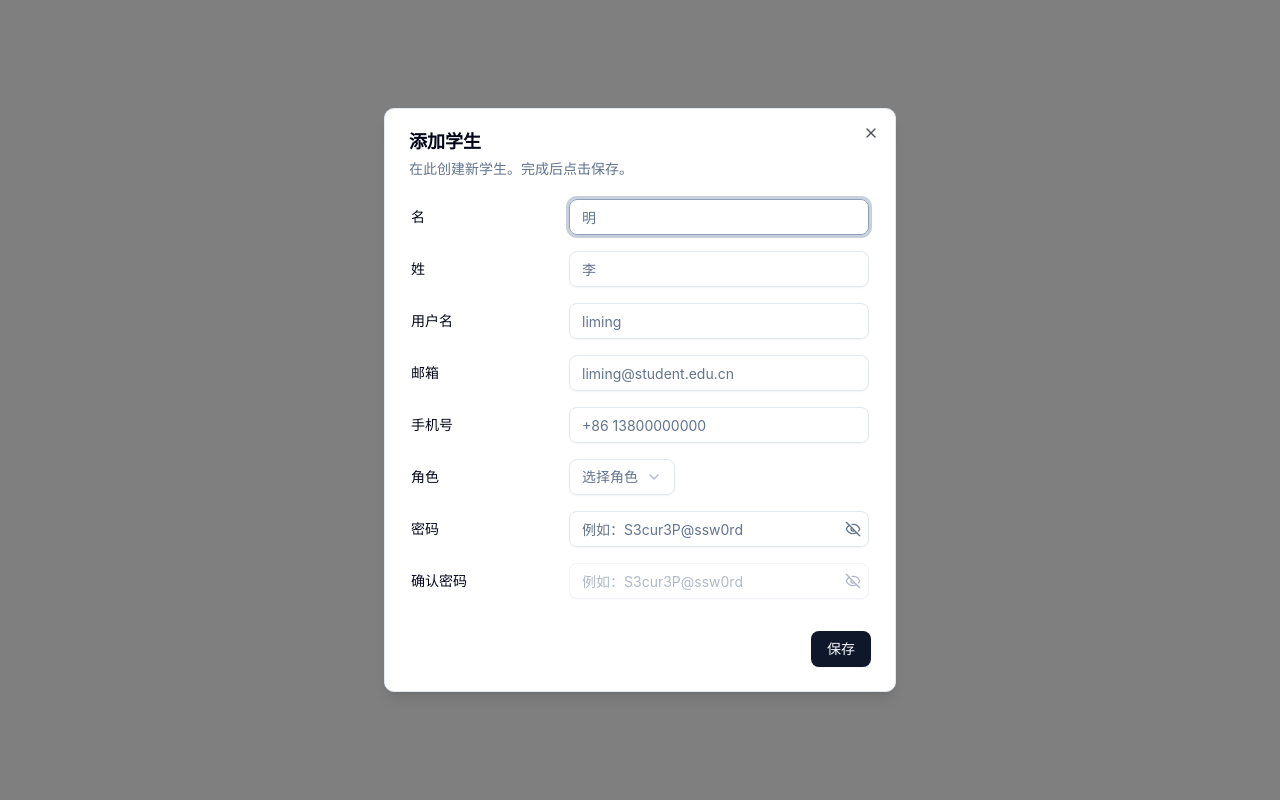
Test: UsersActionDialog › add student › shows validation messages when the form is submitted with empty fields
The width and height of the screenshot is (1280, 800).
Click the button "保存".
click(841, 649)  # box [811, 631, 871, 667]
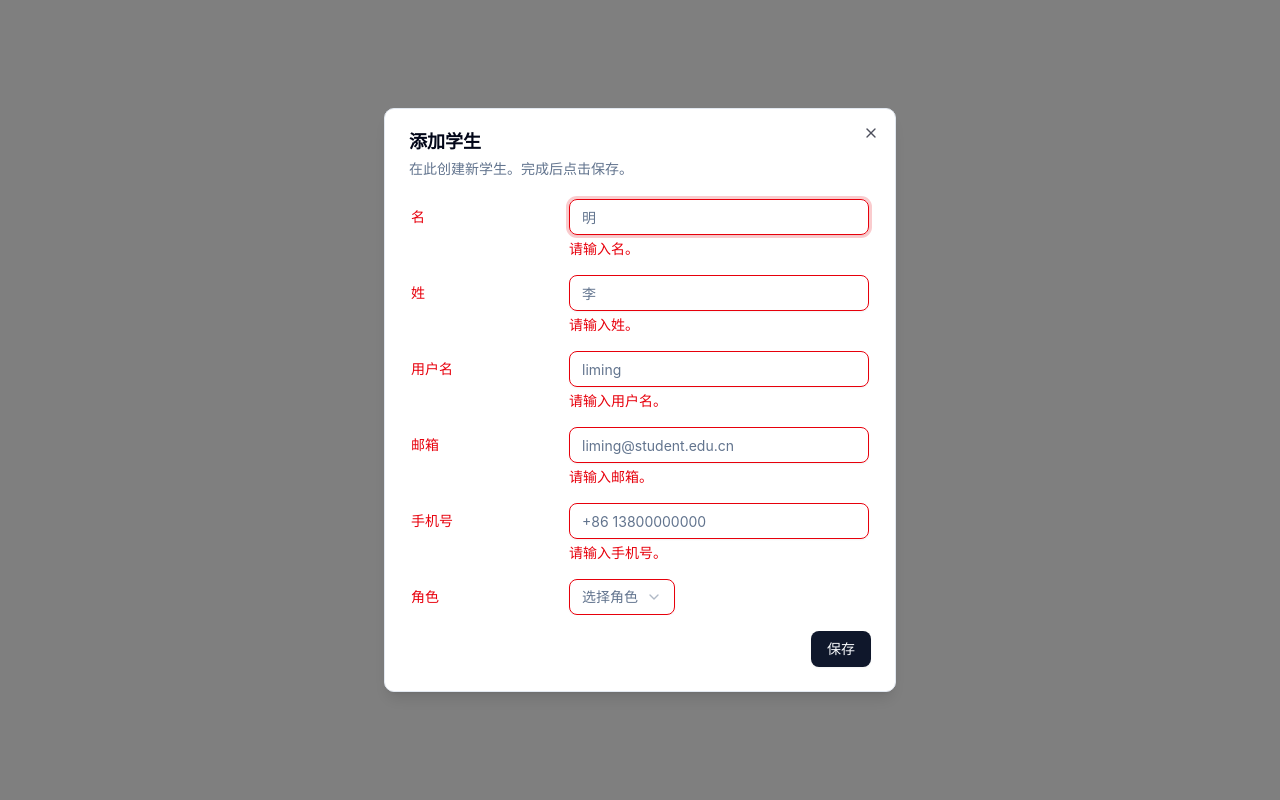
Now the text "请输入名。" is shown, box [569, 240, 639, 257]
Now the text "请输入姓。" is shown, box [569, 316, 639, 333]
Now the text "请输入用户名。" is shown, box [569, 392, 667, 409]
